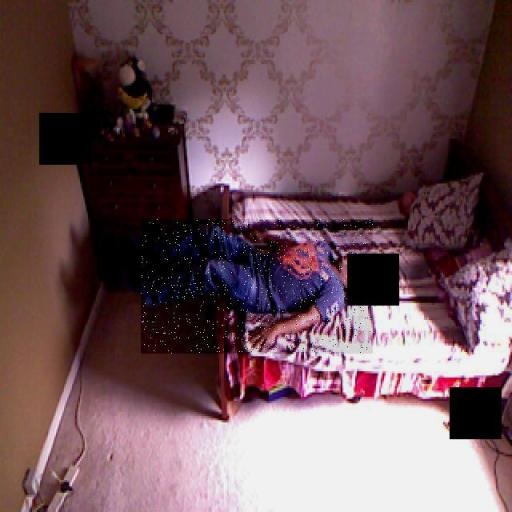Fall: (141, 220, 373, 354)
